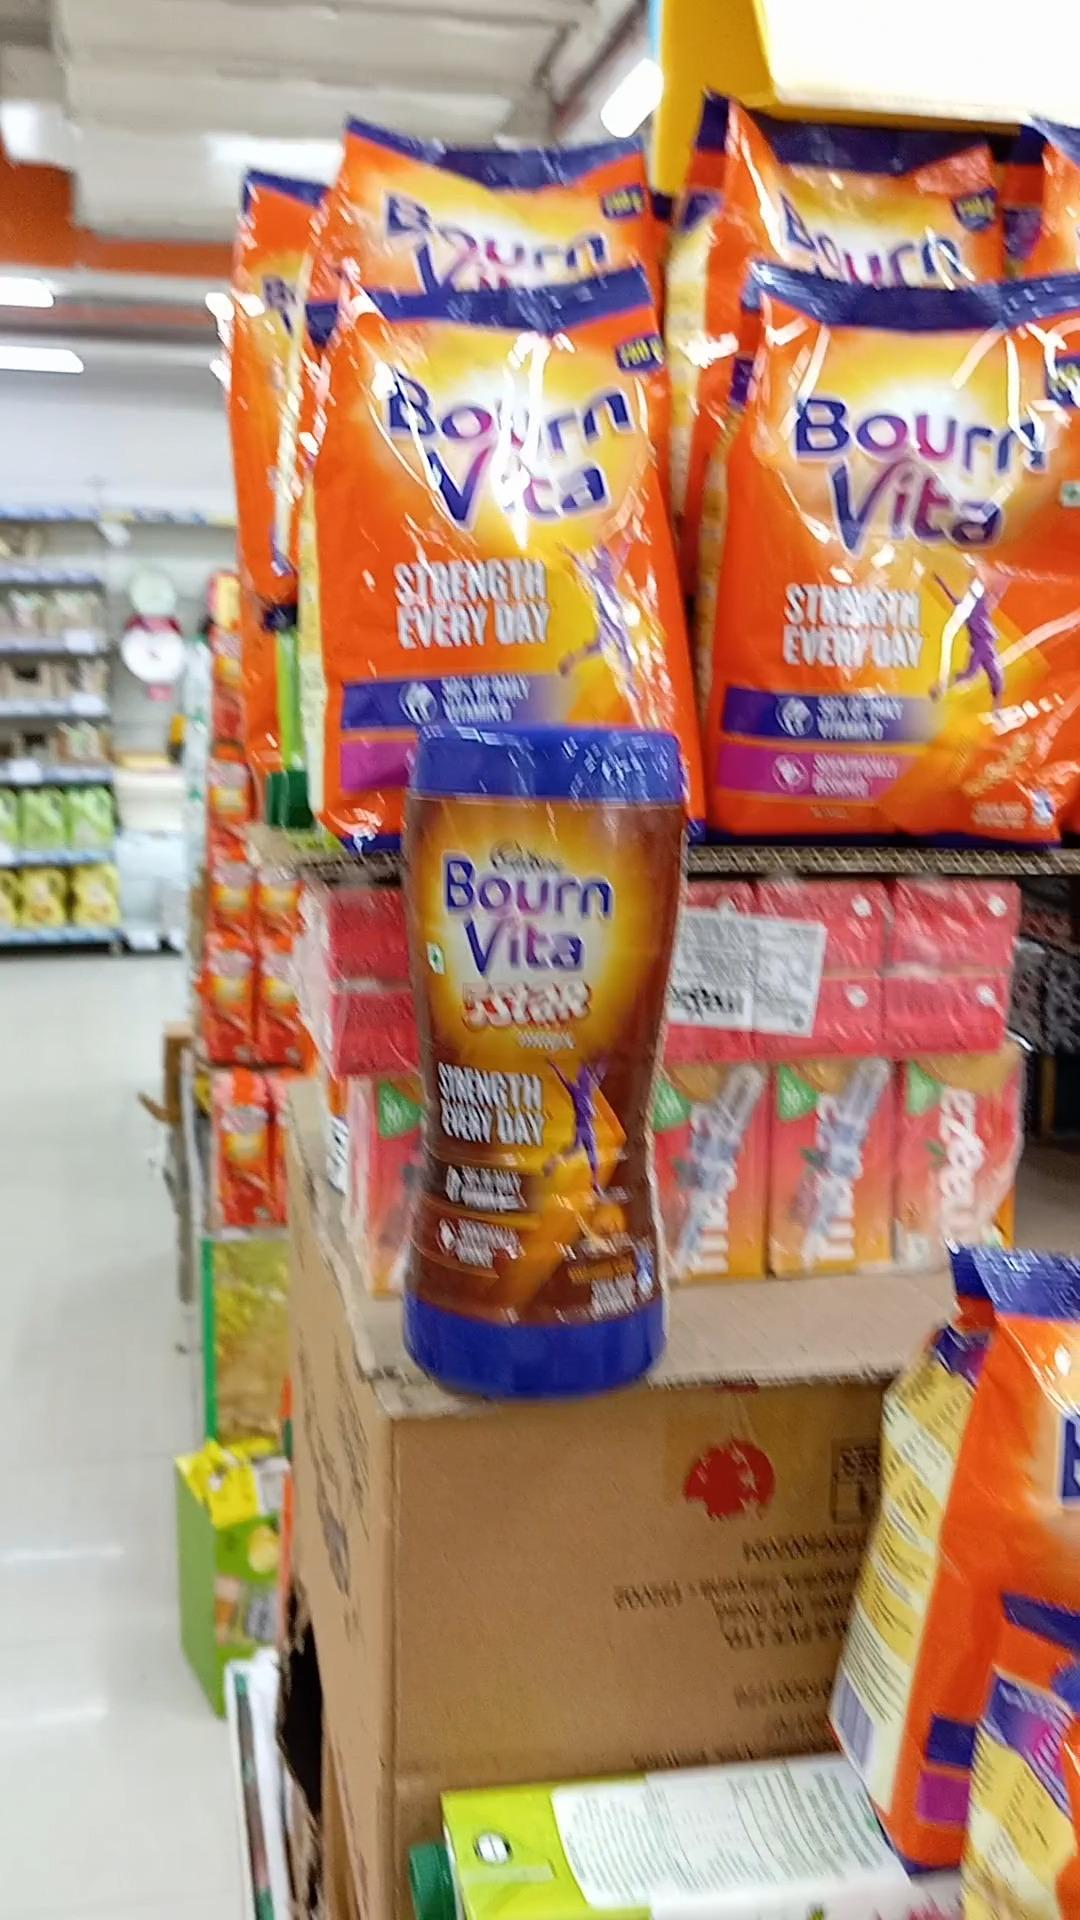BOURN_VITA_FIVE_STAR_MAGIC_500_G_JAR: (413, 716, 694, 1399)
